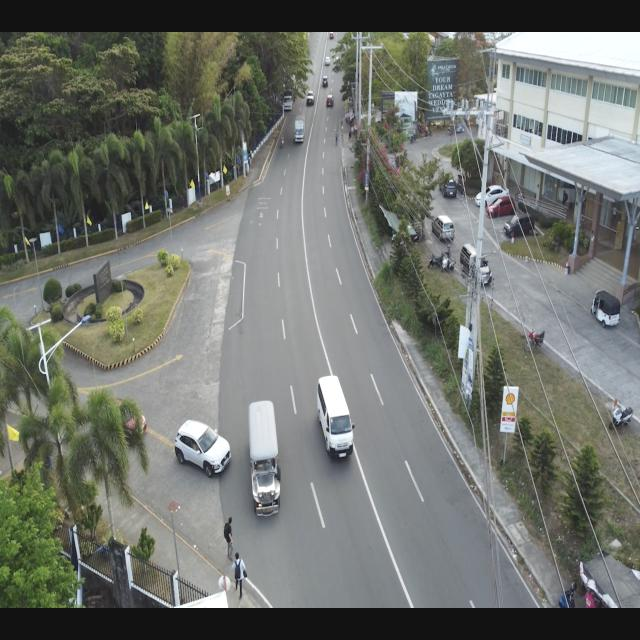bicycle: (515, 192, 523, 202), (334, 130, 338, 145)
car: (246, 399, 283, 519), (315, 374, 356, 462), (174, 418, 232, 478), (459, 243, 493, 287), (474, 184, 510, 209), (503, 212, 535, 240), (486, 196, 516, 220), (431, 215, 455, 242), (306, 90, 315, 105), (326, 94, 334, 108), (322, 75, 328, 88), (325, 55, 330, 67)
motorcycle: (608, 404, 634, 434), (524, 328, 545, 352), (427, 250, 444, 269), (441, 254, 456, 273), (280, 134, 284, 148)
person: (231, 550, 247, 600), (223, 515, 235, 561)
truck: (294, 115, 306, 144), (282, 91, 293, 111)
